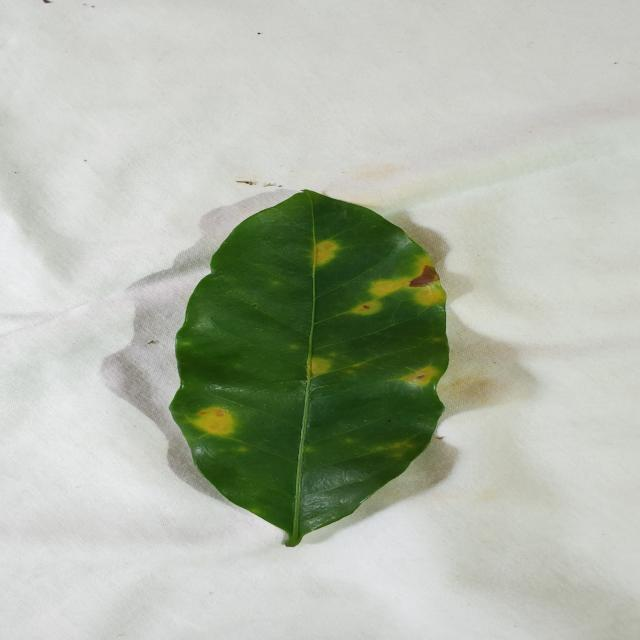Enfermedad-Roya: (167, 190, 452, 549)
